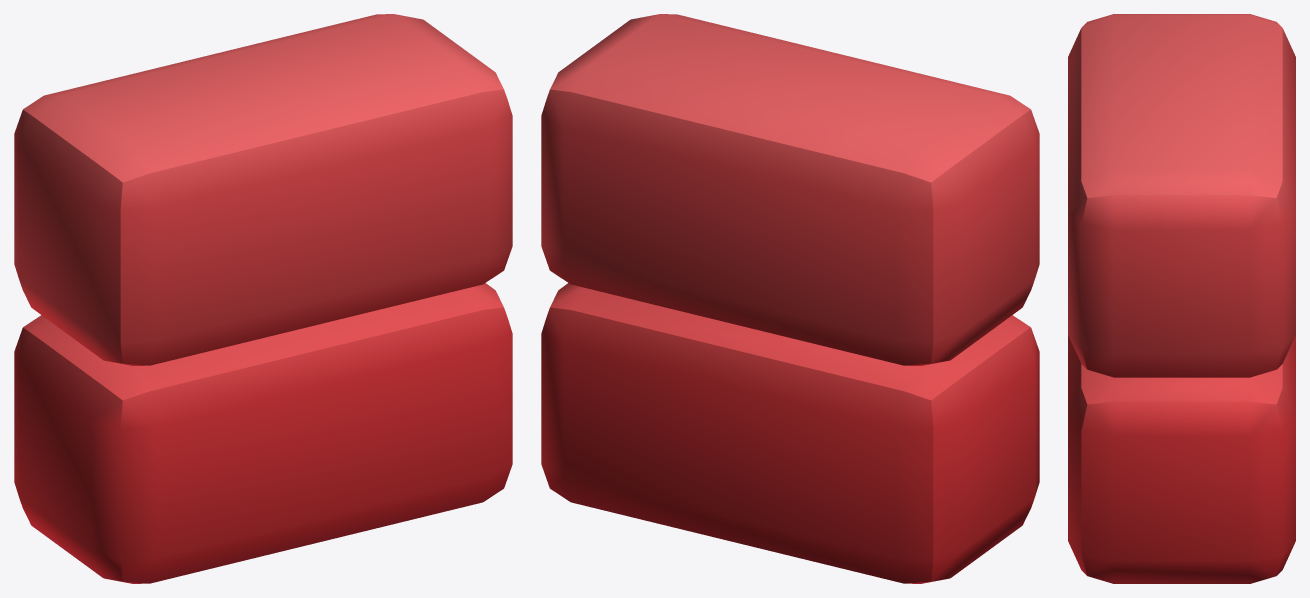
Rendered from barrier_2x1x2_red.glb.
3 renders of one model, left to right at view 1: azimuth 30°, elevation 25°; view 2: azimuth 150°, elevation 25°; view 3: azimuth 270°, elevation 25°, orthographic. The views are drawn at different scales.
Visible parts, largest first — view 1: barrier_2x1x2_red; view 2: barrier_2x1x2_red; view 3: barrier_2x1x2_red.
Boxes of the visible parts, x1,y1,x2,y2 form: barrier_2x1x2_red: [14, 14, 512, 583]; barrier_2x1x2_red: [541, 14, 1039, 583]; barrier_2x1x2_red: [1068, 14, 1295, 583].
Bounding box in the file's own units: 2 × 2 × 1.
Materials: 1 (1 with a texture image).
